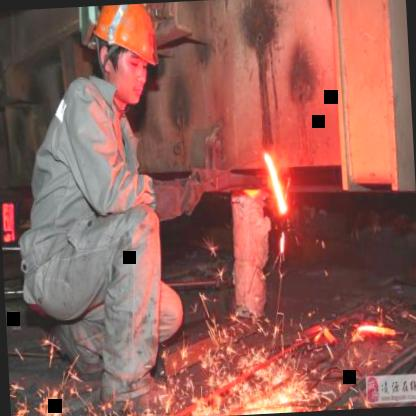helmet: (90, 3, 162, 108)
